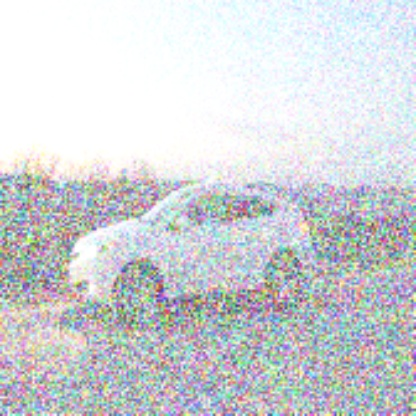Vehicle: (70, 184, 316, 330)
